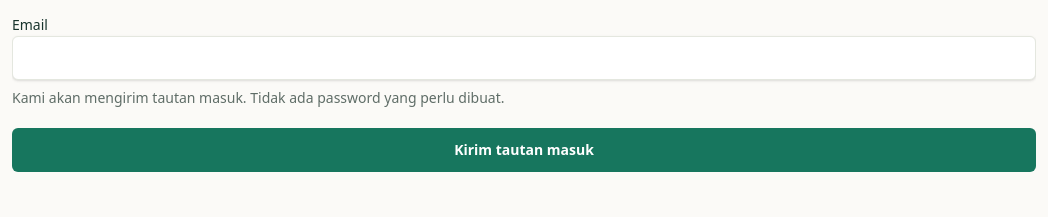
Scenario: SignInForm › menampilkan error validasi untuk email tidak valid
The width and height of the screenshot is (1048, 217).
Type "bukan-email" into the field labelled "Email" at x=524, y=58, box [12, 36, 1036, 80]
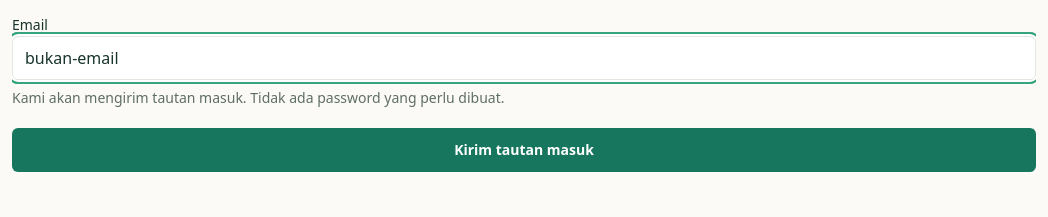
Click the button "Kirim tautan masuk" at x=524, y=150, box [12, 128, 1036, 172]
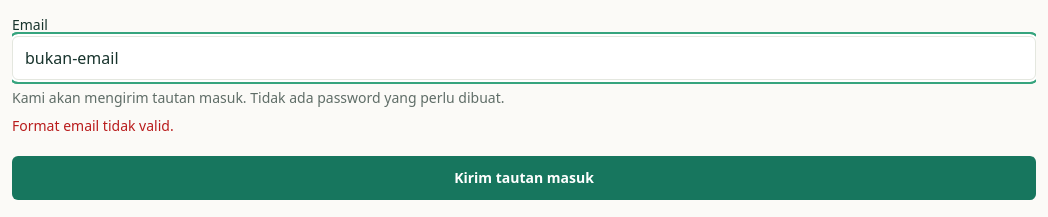
Expected: the message reads "Format email tidak valid.", [12, 116, 174, 135]
